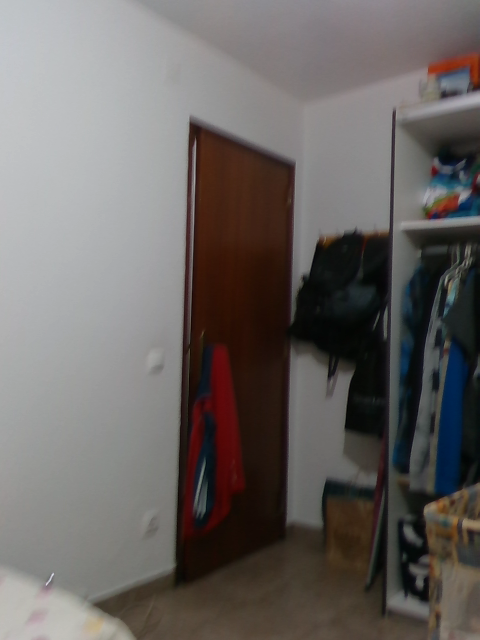closed: (176, 116, 294, 591)
